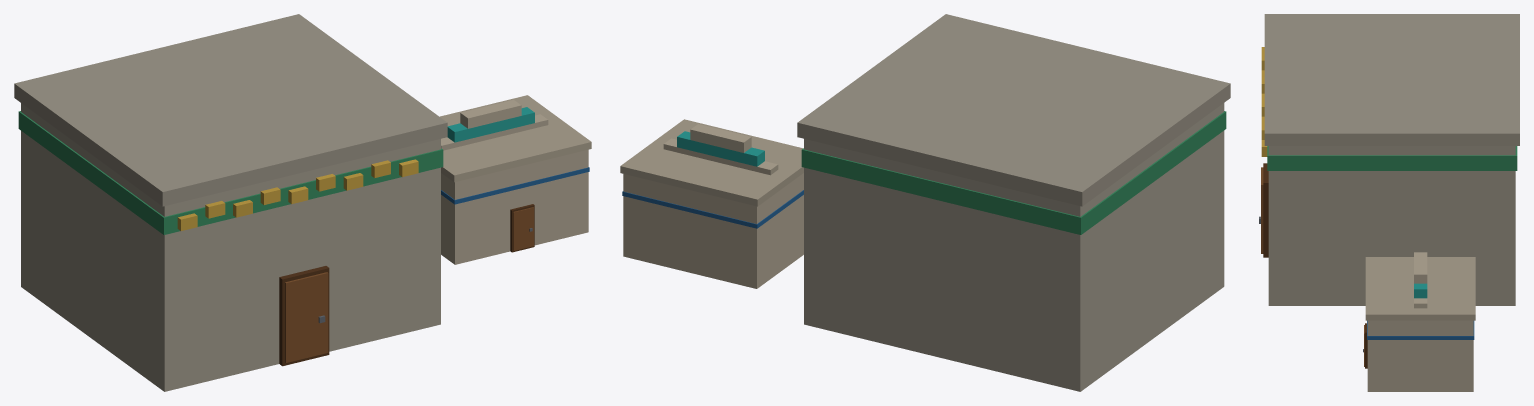
Rendered from frog_hall.glb.
The picture shows the model from 3 angles, left to right: view 1: azimuth 30°, elevation 25°; view 2: azimuth 150°, elevation 25°; view 3: azimuth 270°, elevation 25°; orthographic projection. The views are drawn at different scales.
Parts seen in each view (by area): view 1: frog_hall; view 2: frog_hall; view 3: frog_hall.
Boxes of the visible parts, x1,y1,x2,y2 form: frog_hall: (14, 14, 591, 391); frog_hall: (620, 14, 1230, 391); frog_hall: (1259, 14, 1519, 391).
Bounding box in the file's own units: 5.11 × 2.03 × 2.75.
